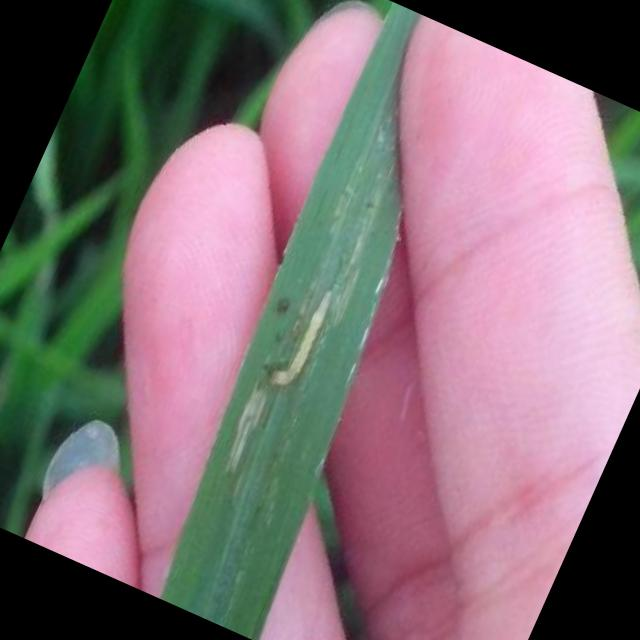leaf-folder: (248, 266, 366, 432)
